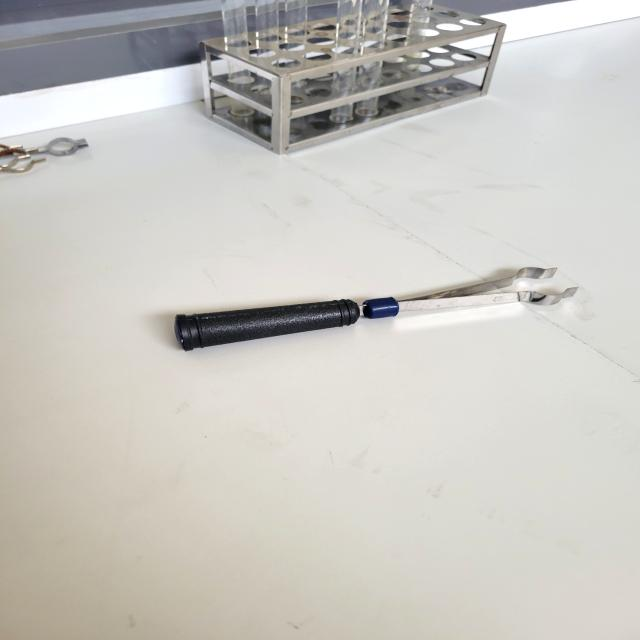TestTube_Holder: (118, 251, 587, 371)
